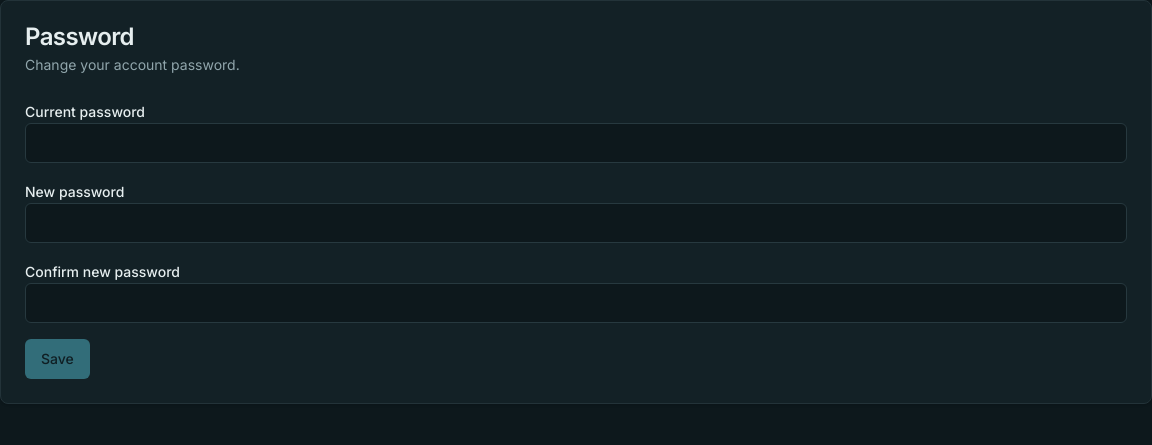
Test: PasswordCard › shows a policy validation error for a too-weak new password
Type "short" into the password field labelled "New password" at [576, 223], box [25, 203, 1127, 243]
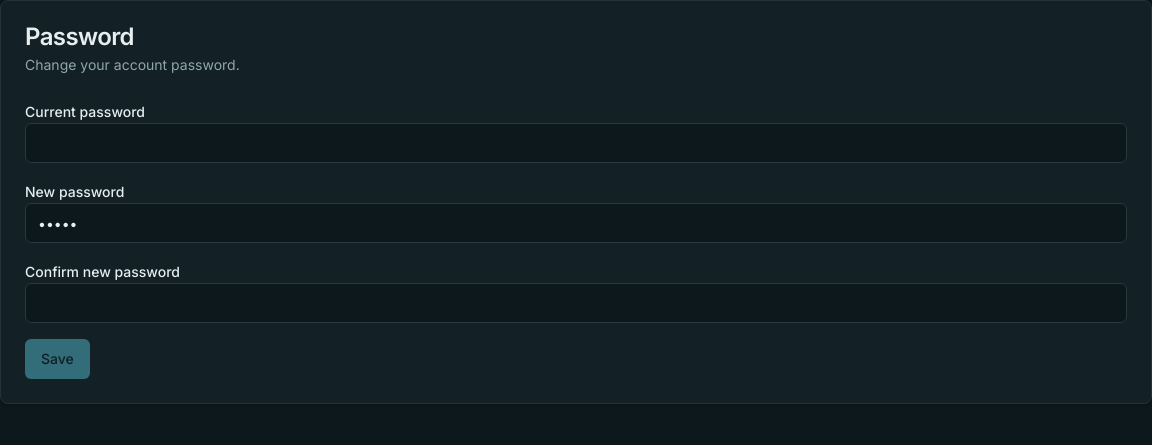
Leave the password field labelled "New password", box [25, 203, 1127, 243]
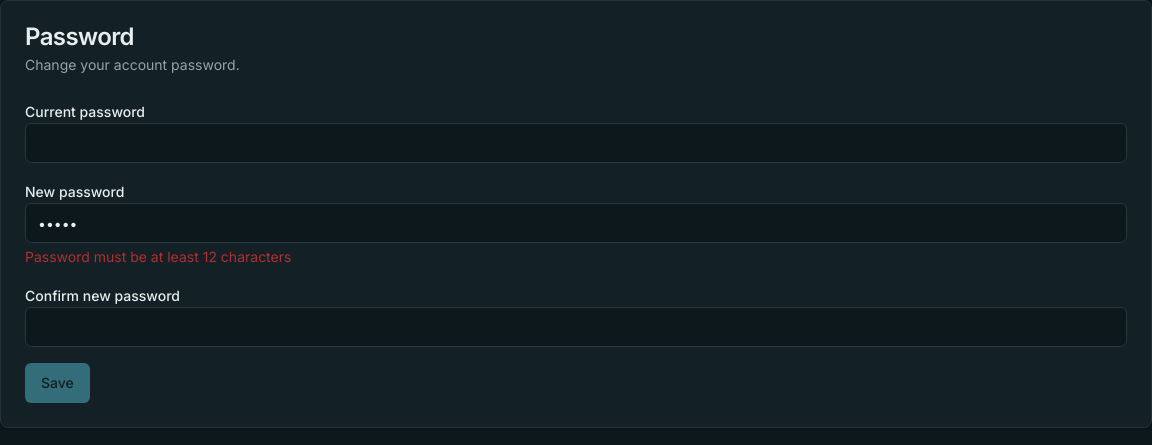
Expected: the message shows "at least 12 characters", [25, 248, 291, 265]
